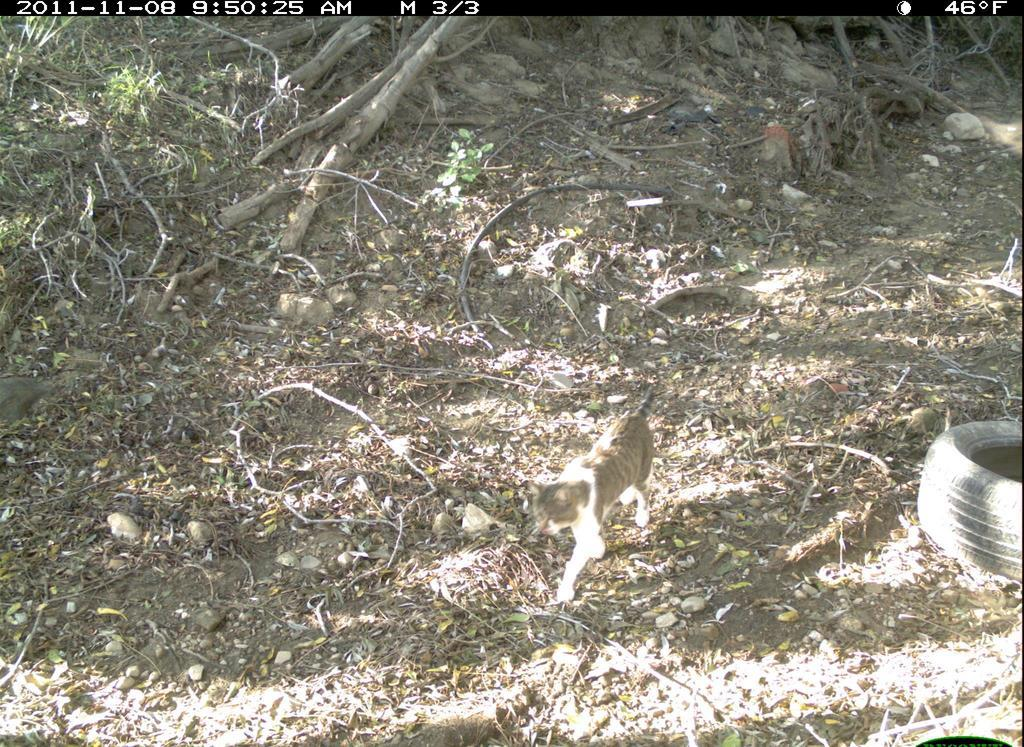cat: (524, 376, 665, 611)
